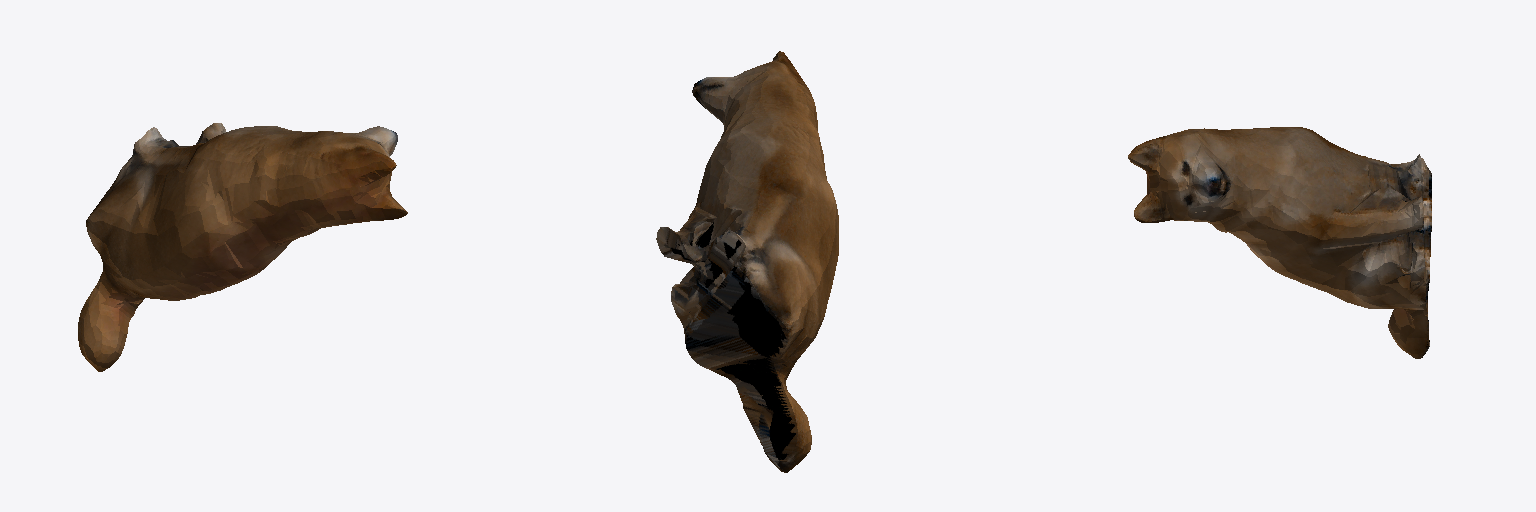
3 views of the same model, side by side, from view 1: azimuth 30°, elevation 25°; view 2: azimuth 150°, elevation 25°; view 3: azimuth 270°, elevation 25° (orthographic).
Bounding box in the file's own units: 0.405 × 0.5188 × 0.4979.
1 materials, 1 textured.